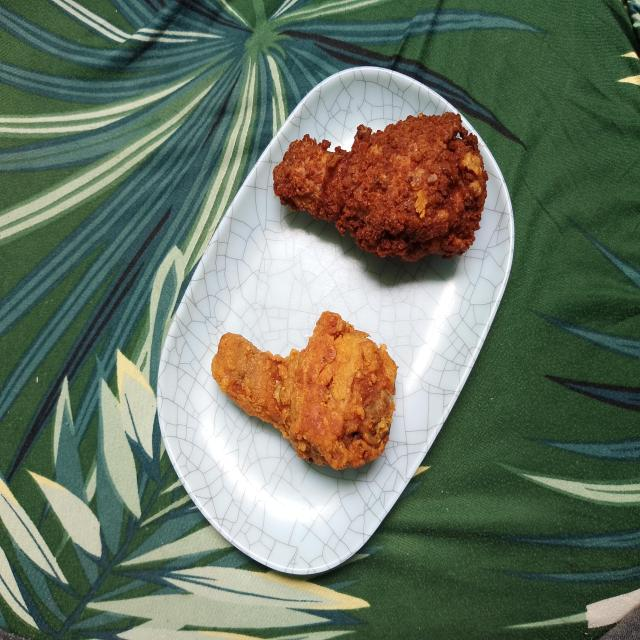Chicken -Fried Chicken-: (268, 80, 490, 277), (203, 305, 394, 481)
